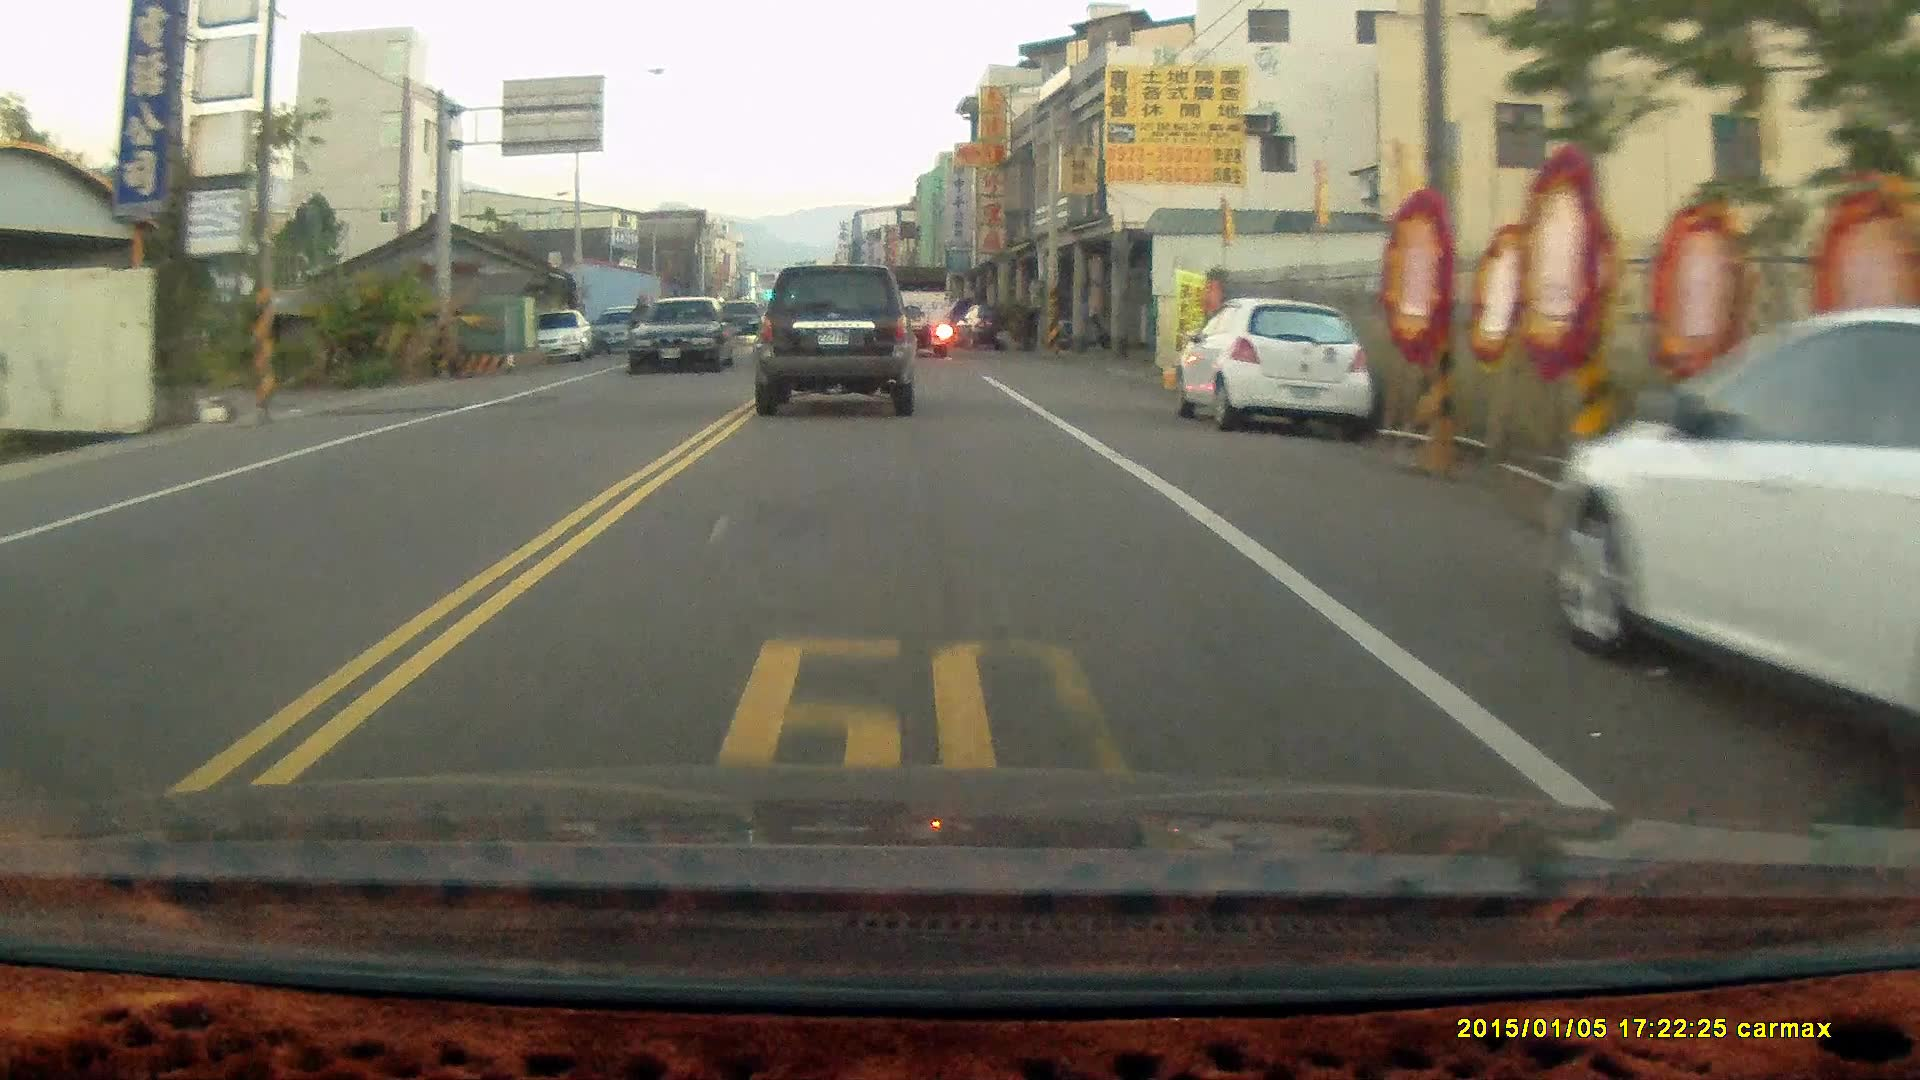vehicle: (1544, 309, 1920, 831), (1178, 298, 1369, 443), (749, 265, 919, 419), (632, 291, 741, 375), (881, 262, 957, 357), (517, 309, 596, 363), (587, 307, 655, 356)
